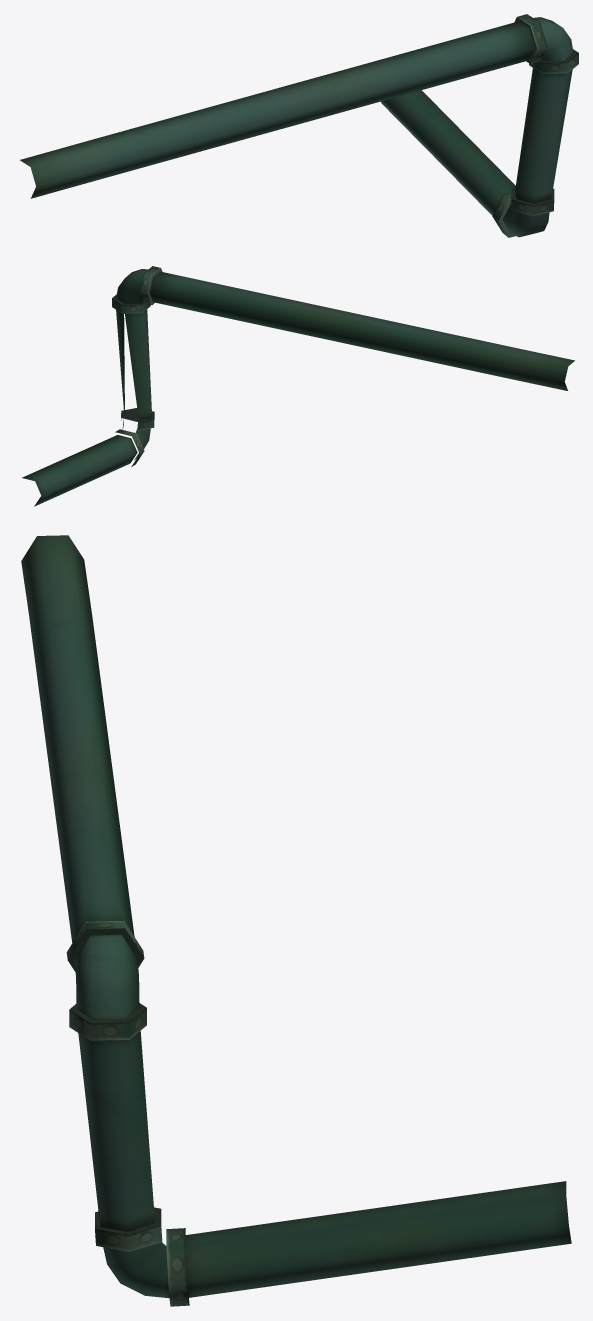
The model's file is pipe_L_horiz_down.glb.
3 views of the same model, one above another, from view 1: azimuth 30°, elevation 25°; view 2: azimuth 150°, elevation 25°; view 3: azimuth 270°, elevation 25° (orthographic). The views are drawn at different scales.
Visible parts, largest first — view 1: pipeworks.pipe_L_horiz_down-Mesh[0]; view 2: pipeworks.pipe_L_horiz_down-Mesh[0]; view 3: pipeworks.pipe_L_horiz_down-Mesh[0].
Boxes of the visible parts, x1,y1,x2,y2 form: pipeworks.pipe_L_horiz_down-Mesh[0]: (20, 14, 578, 237); pipeworks.pipe_L_horiz_down-Mesh[0]: (22, 266, 574, 506); pipeworks.pipe_L_horiz_down-Mesh[0]: (21, 535, 571, 1306).
Bounding box in the file's own units: 57.65 × 22.69 × 31.05.
1 material, 1 textured.
